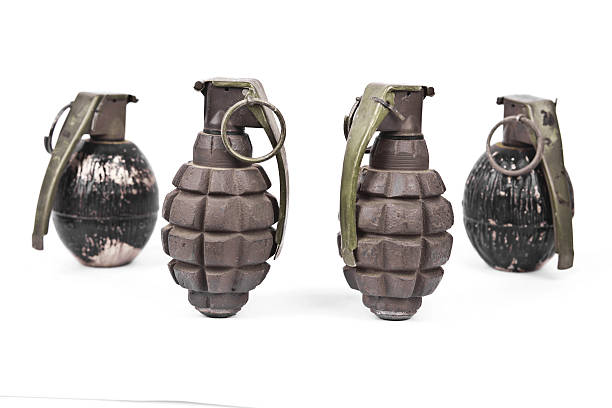e1: (161, 79, 288, 317), (335, 84, 452, 324), (31, 90, 157, 265), (463, 93, 577, 274)
